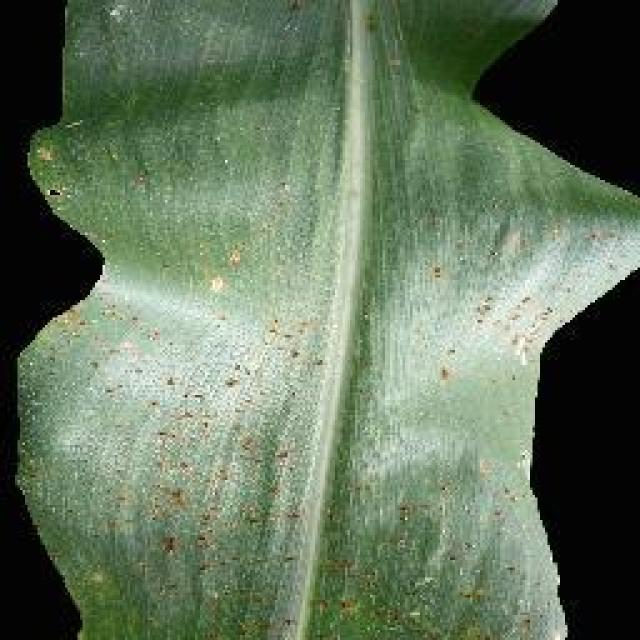Corn Common Rust: (46, 150, 640, 640)
